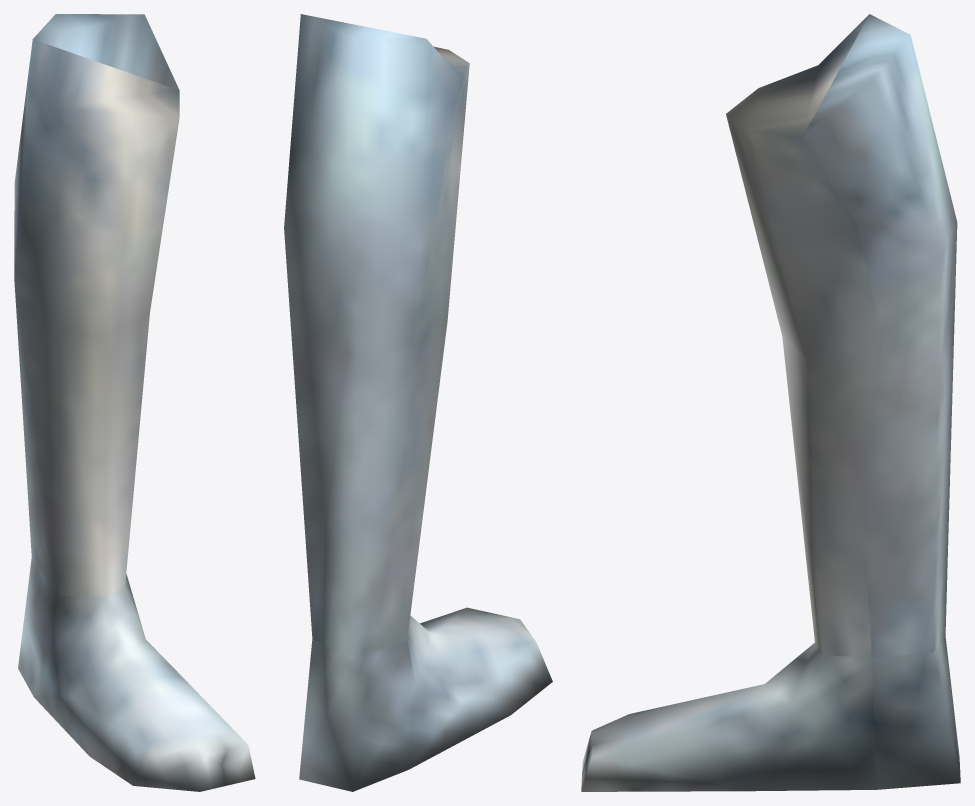
File: minos_right_leg.obj
3 views of the same model, side by side, from view 1: azimuth 30°, elevation 25°; view 2: azimuth 150°, elevation 25°; view 3: azimuth 270°, elevation 25° (orthographic). The views are drawn at different scales.
Visible parts, largest first — view 1: Minos_Right_Leg; view 2: Minos_Right_Leg; view 3: Minos_Right_Leg.
Part boxes in pixels (bbox=[...]): Minos_Right_Leg: bbox=[14, 14, 255, 791]; Minos_Right_Leg: bbox=[284, 14, 552, 791]; Minos_Right_Leg: bbox=[581, 14, 960, 791].
Bounding box in the file's own units: 0.0722 × 0.3556 × 0.1674.
1 material, 1 textured.
